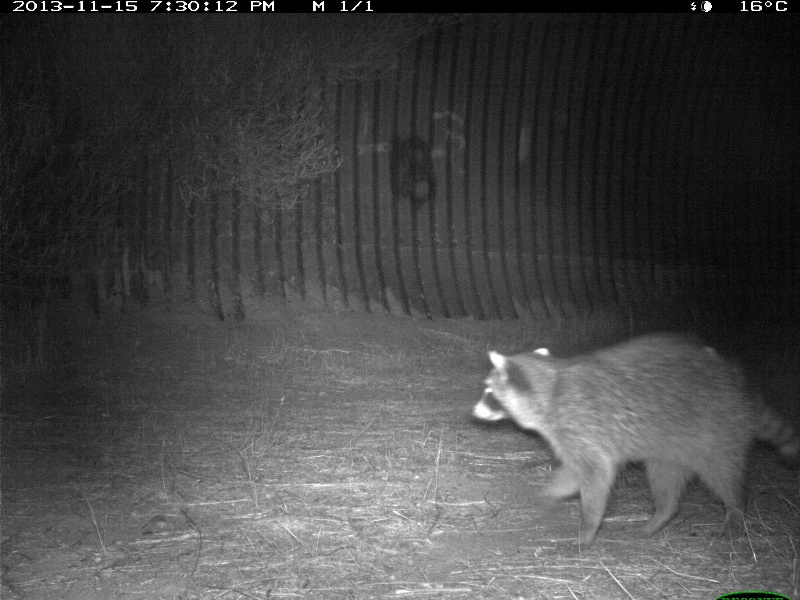raccoon: (467, 330, 800, 537)
